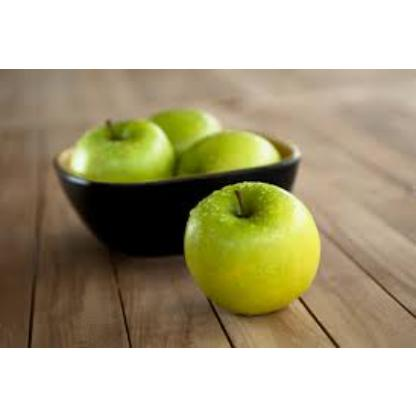apple: (209, 198, 321, 310)
